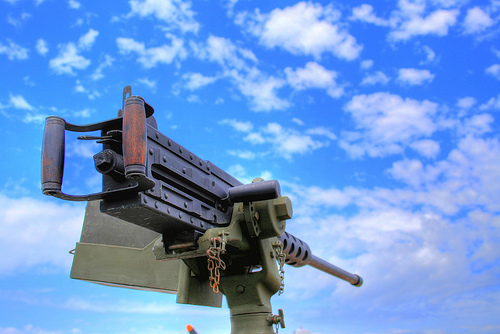rifle: (29, 96, 383, 294)
